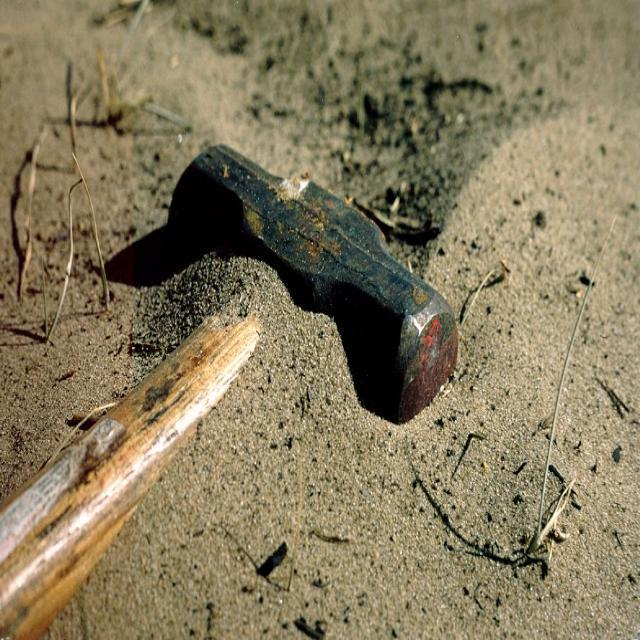hammer: (0, 117, 461, 640)
